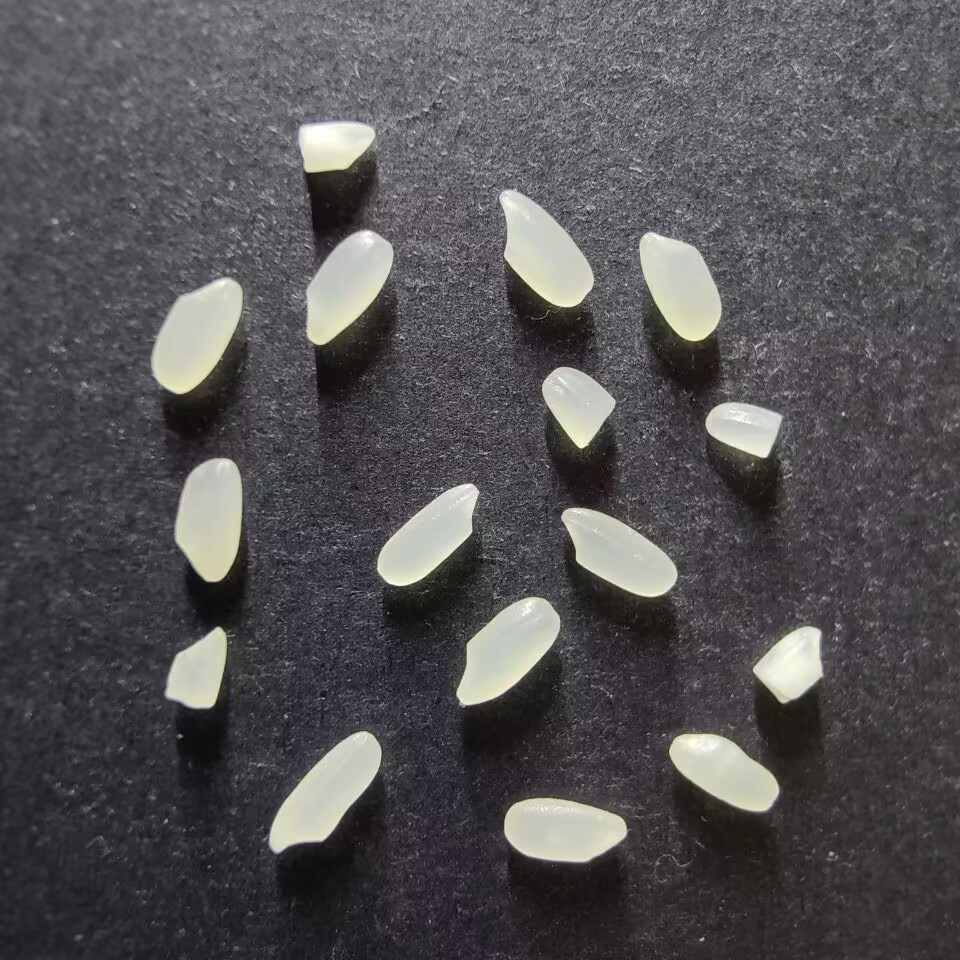broken: (541, 365, 616, 449), (751, 625, 825, 704), (163, 627, 227, 709), (704, 402, 782, 459), (297, 121, 376, 173)
rice: (267, 730, 382, 854), (454, 596, 561, 705), (498, 189, 594, 308), (559, 506, 679, 598), (375, 480, 477, 586), (151, 277, 241, 395), (304, 230, 393, 346), (638, 231, 722, 341), (668, 732, 780, 813), (174, 457, 242, 582), (502, 797, 626, 863)
